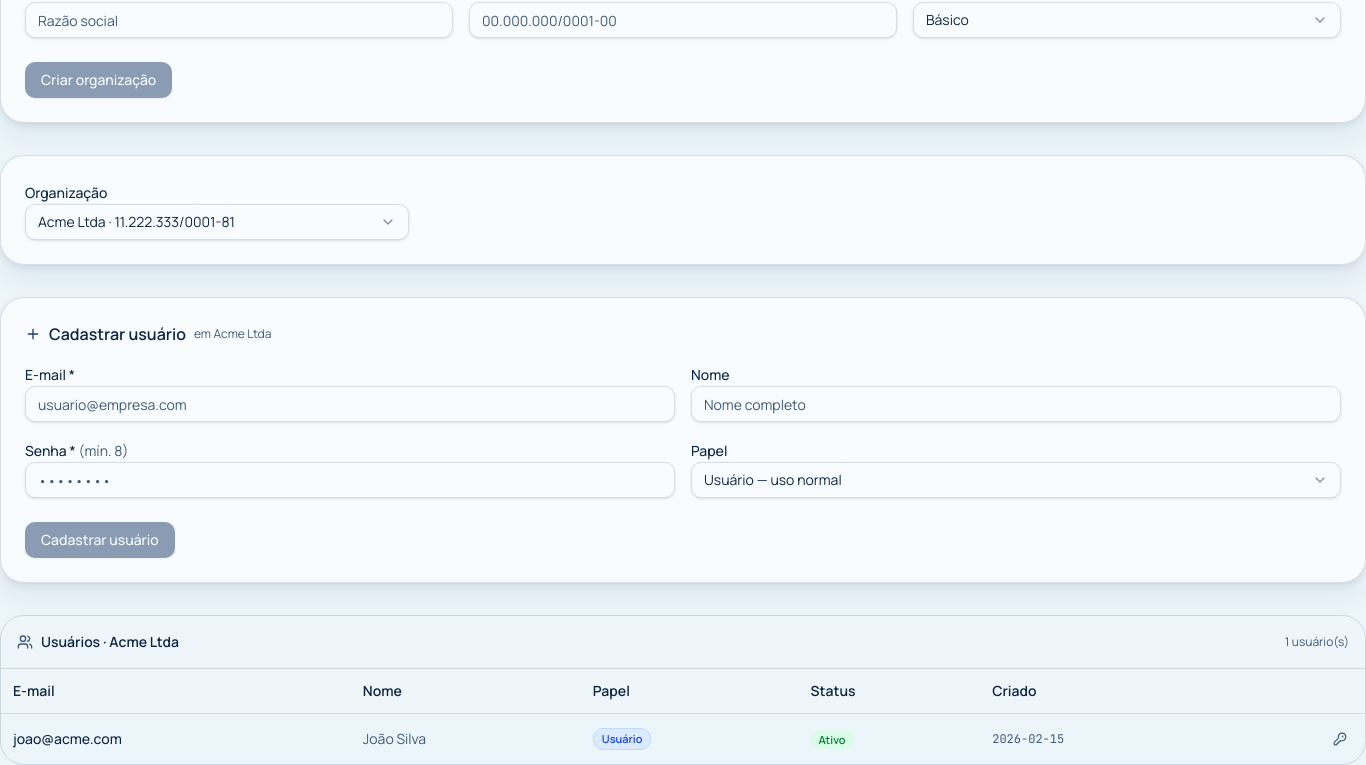
UsuariosPage › abre o dialog de reset de senha ao clicar no botao da linha
(page scrolled)
Expected: the text "joao@acme.com" is shown, [1,714,351,764]
Click the button titled "Redefinir senha".
click(1340, 739)  # box [1327,726,1353,752]
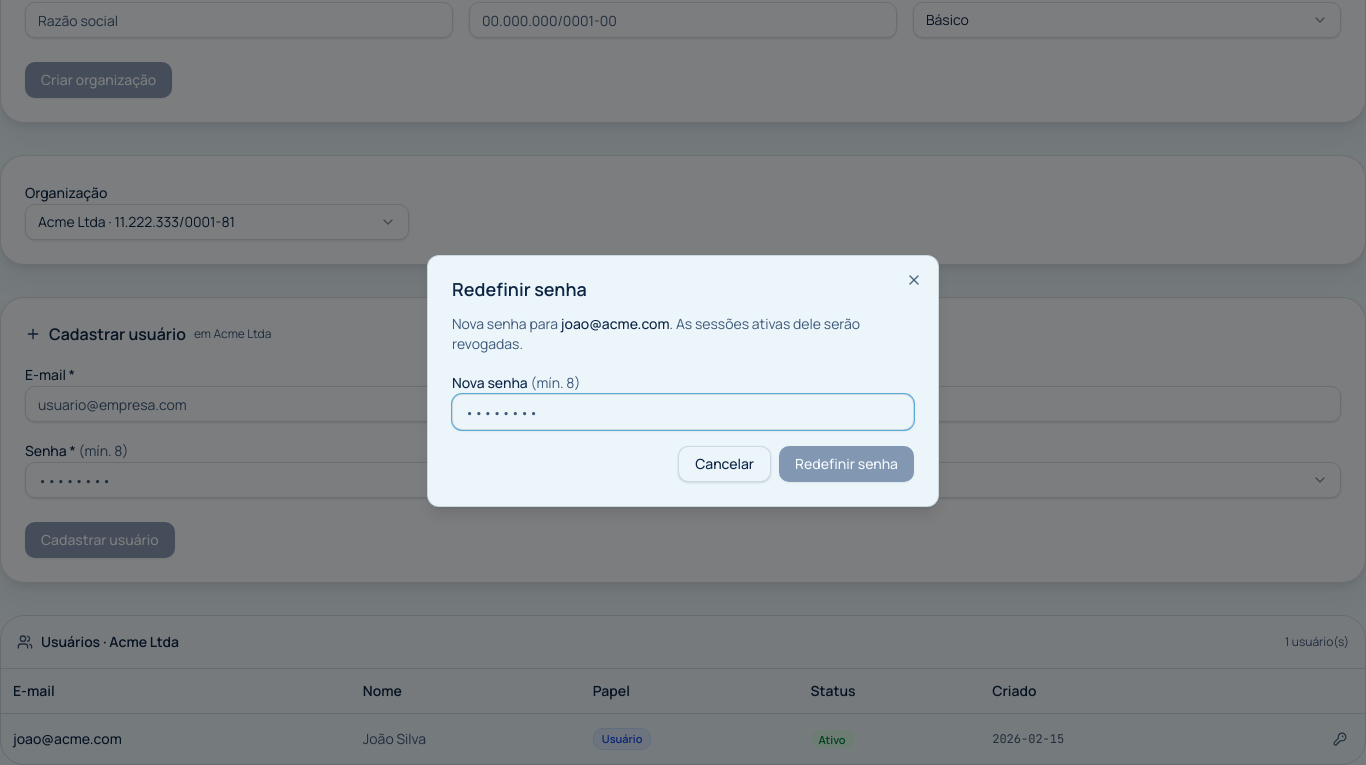
Expected: the heading "Redefinir senha" is shown, [452,277,587,301]
Expected: the dialog shows "joao@acme.com", [561,314,670,333]
